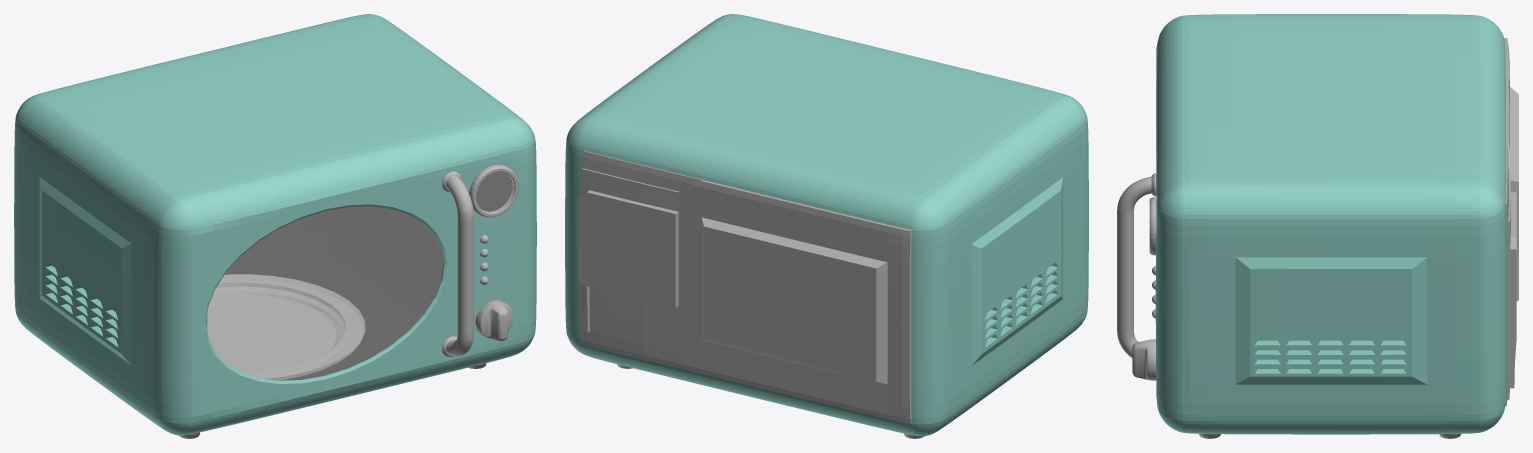
The model's file is MicrowaveRetro.fbx.
The picture shows the model from 3 angles, left to right: view 1: azimuth 30°, elevation 25°; view 2: azimuth 150°, elevation 25°; view 3: azimuth 270°, elevation 25°; orthographic projection. The views are drawn at different scales.
Parts seen in each view (by area): view 1: Body, Inside, Plate, Handle, PresetNob, Nob, Glass; view 2: Body; view 3: Body, Handle, Nob, PresetNob.
Part boxes in pixels (box(x1,y1,x2,y2)): Body: box(14, 14, 536, 435); Inside: box(206, 206, 442, 380); Plate: box(207, 274, 365, 380); Handle: box(442, 171, 473, 356); PresetNob: box(469, 164, 518, 217); Nob: box(475, 300, 513, 341); Glass: box(476, 171, 514, 212); Body: box(565, 14, 1088, 436); Body: box(1155, 14, 1518, 434); Handle: box(1117, 173, 1156, 357); Nob: box(1132, 339, 1156, 380); PresetNob: box(1149, 197, 1155, 255).
Bounding box in the file's own units: 47.25 × 40.6 × 29.4.
